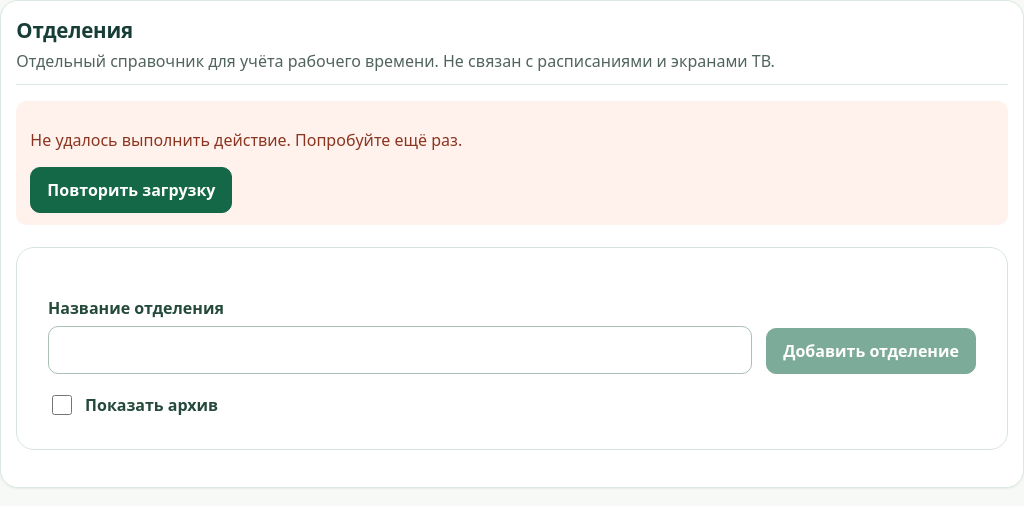
Test case: offers retry when loading fails and disables creation until loaded
Step 1. Click the button "Повторить загрузку" → (131, 190), box [30, 167, 232, 213]
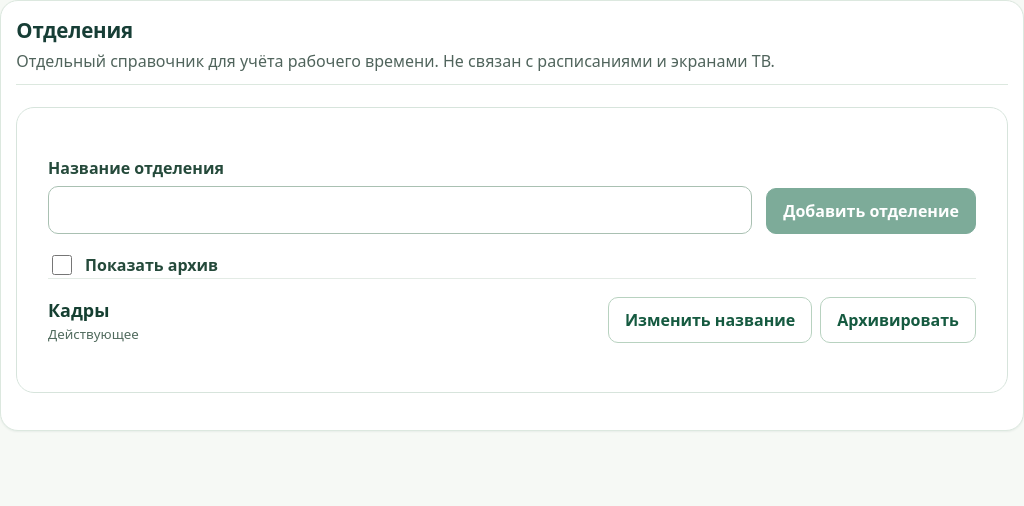
Expected: the text "Кадры" is shown, [48, 298, 109, 322]
Expected: the message "Не удалось выполнить действие. Попробуйте ещё раз. Повторить загрузку" is gone
